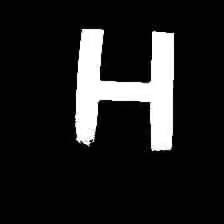LTR_H: (65, 16, 179, 156)
